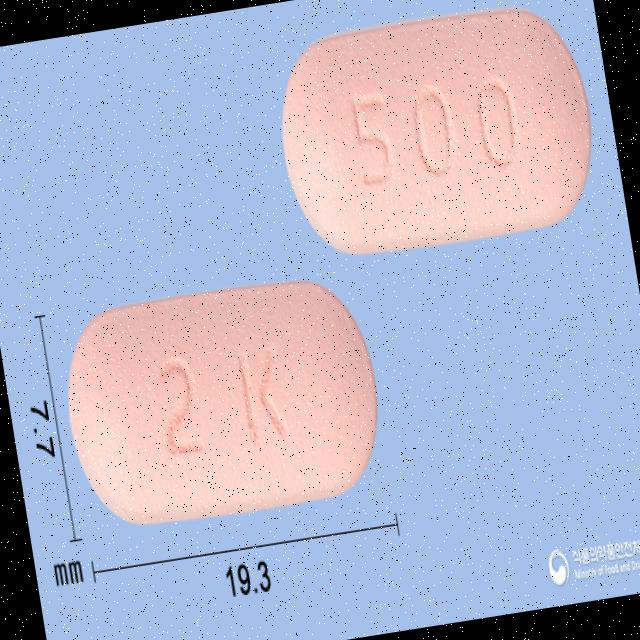Liflocin: (266, 0, 607, 266), (55, 270, 393, 538)
